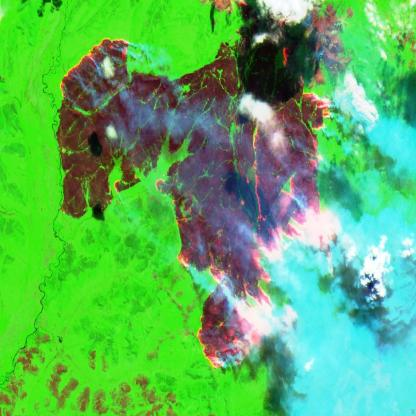fire: (52, 0, 358, 379)
